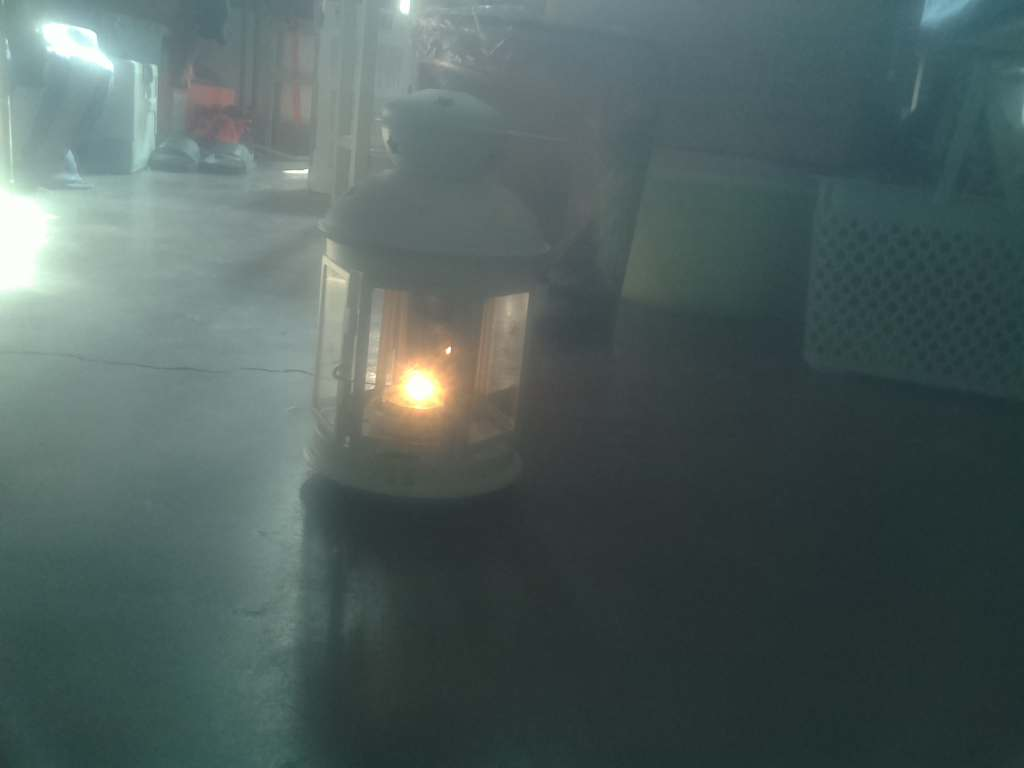fire: (379, 354, 473, 430)
